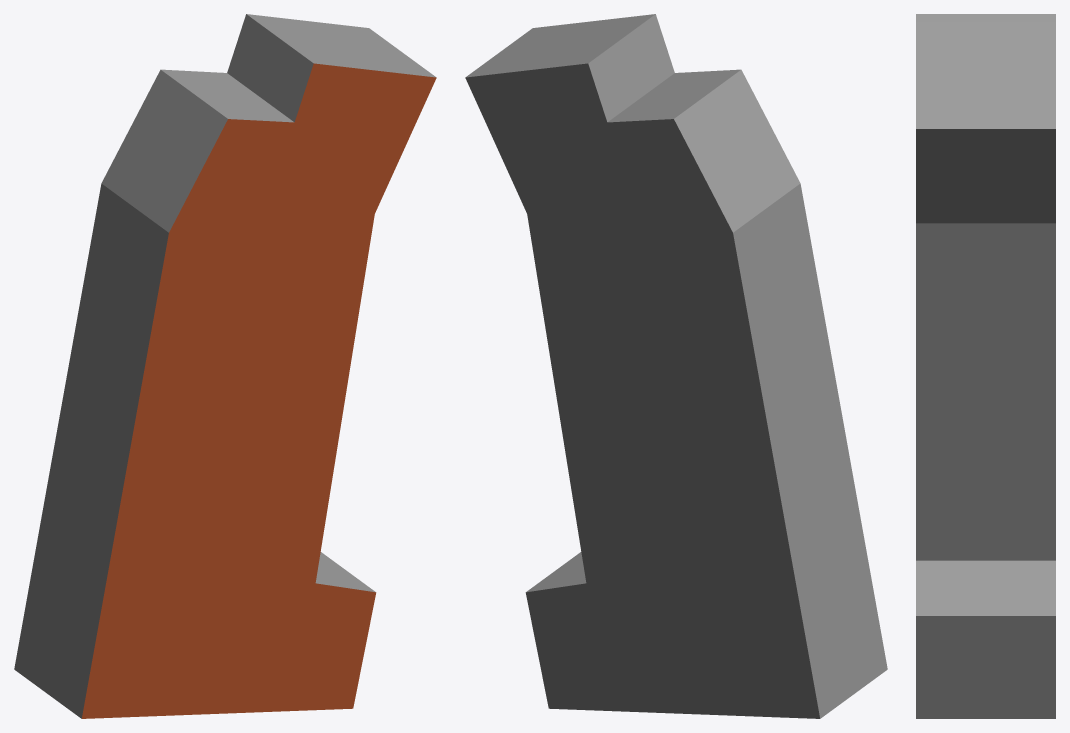
File: construction_3939_assumed_A_Casa_h6m.obj
The picture shows the model from 3 angles, left to right: view 1: azimuth 30°, elevation 25°; view 2: azimuth 150°, elevation 25°; view 3: azimuth 270°, elevation 25°; orthographic projection. The views are drawn at different scales.
Parts seen in each view (by area): view 1: construction_3939_assumed_A_Casa; view 2: construction_3939_assumed_A_Casa; view 3: construction_3939_assumed_A_Casa.
Part boxes in pixels (x1=…): construction_3939_assumed_A_Casa: x1=14, y1=14, x2=436, y2=718; construction_3939_assumed_A_Casa: x1=465, y1=14, x2=887, y2=718; construction_3939_assumed_A_Casa: x1=916, y1=14, x2=1055, y2=718.
Size of the model in its own units: 18.21 by 32.09 by 6.
